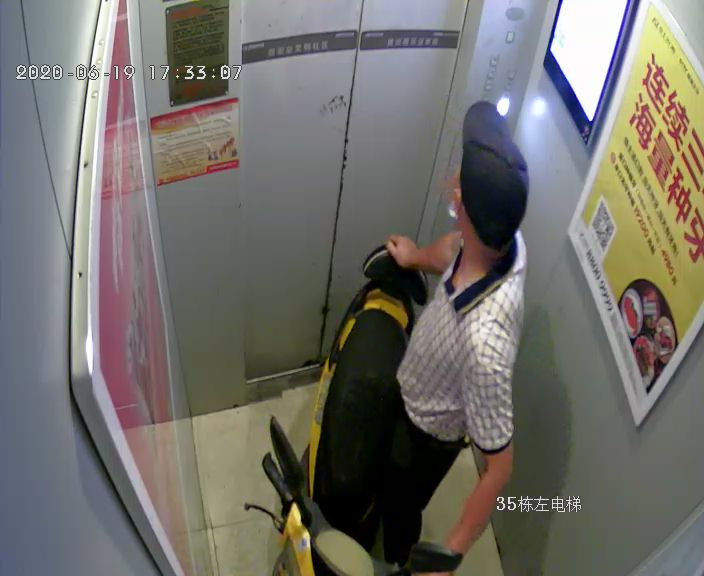Electric-bicycle: (244, 219, 460, 576)
